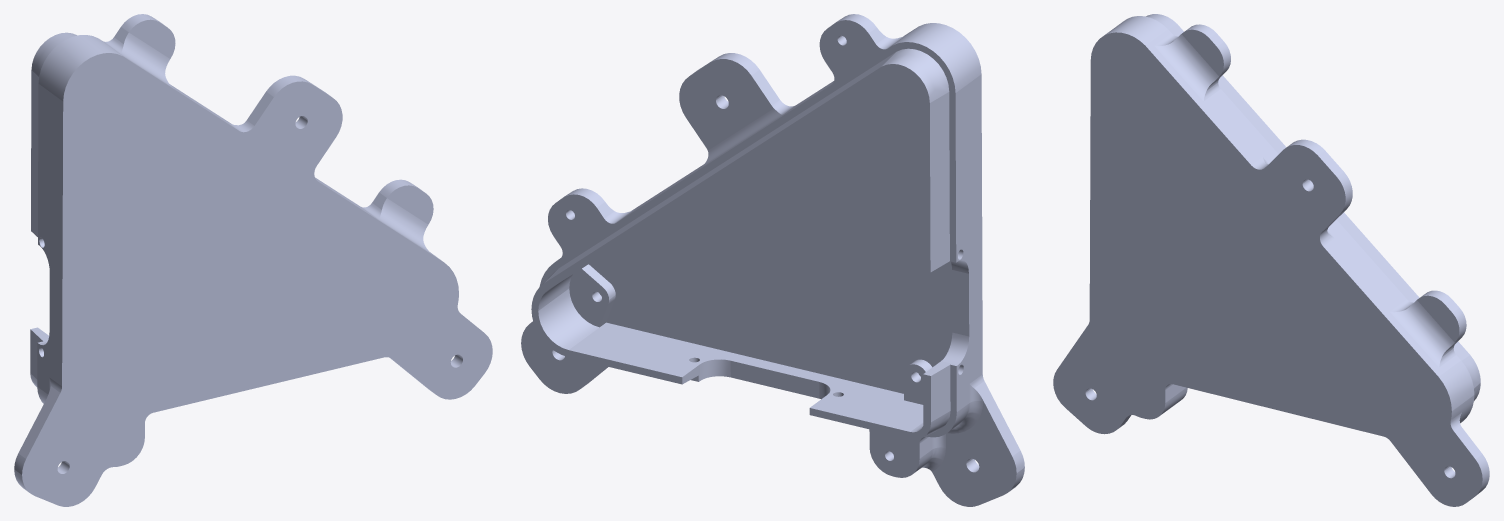
File: Lower_Part_FSM_Enclosure.glb
3 views of the same model, side by side, from view 1: azimuth 30°, elevation 25°; view 2: azimuth 150°, elevation 25°; view 3: azimuth 330°, elevation 25° (orthographic). The views are drawn at different scales.
Parts seen in each view (by area): view 1: empty_2; view 2: empty_2; view 3: empty_2.
Boxes of the visible parts, left/top/right/bottom form: empty_2: left=14, top=14, right=492, bottom=506; empty_2: left=521, top=14, right=1024, bottom=506; empty_2: left=1053, top=14, right=1489, bottom=506.
Bounding box in the file's own units: 173 × 159 × 25.75.
